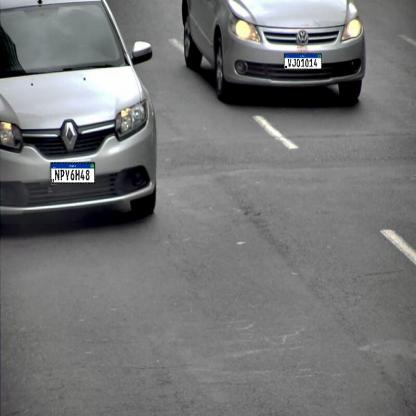PlacaM: (51, 162, 95, 184), (284, 53, 322, 70)
